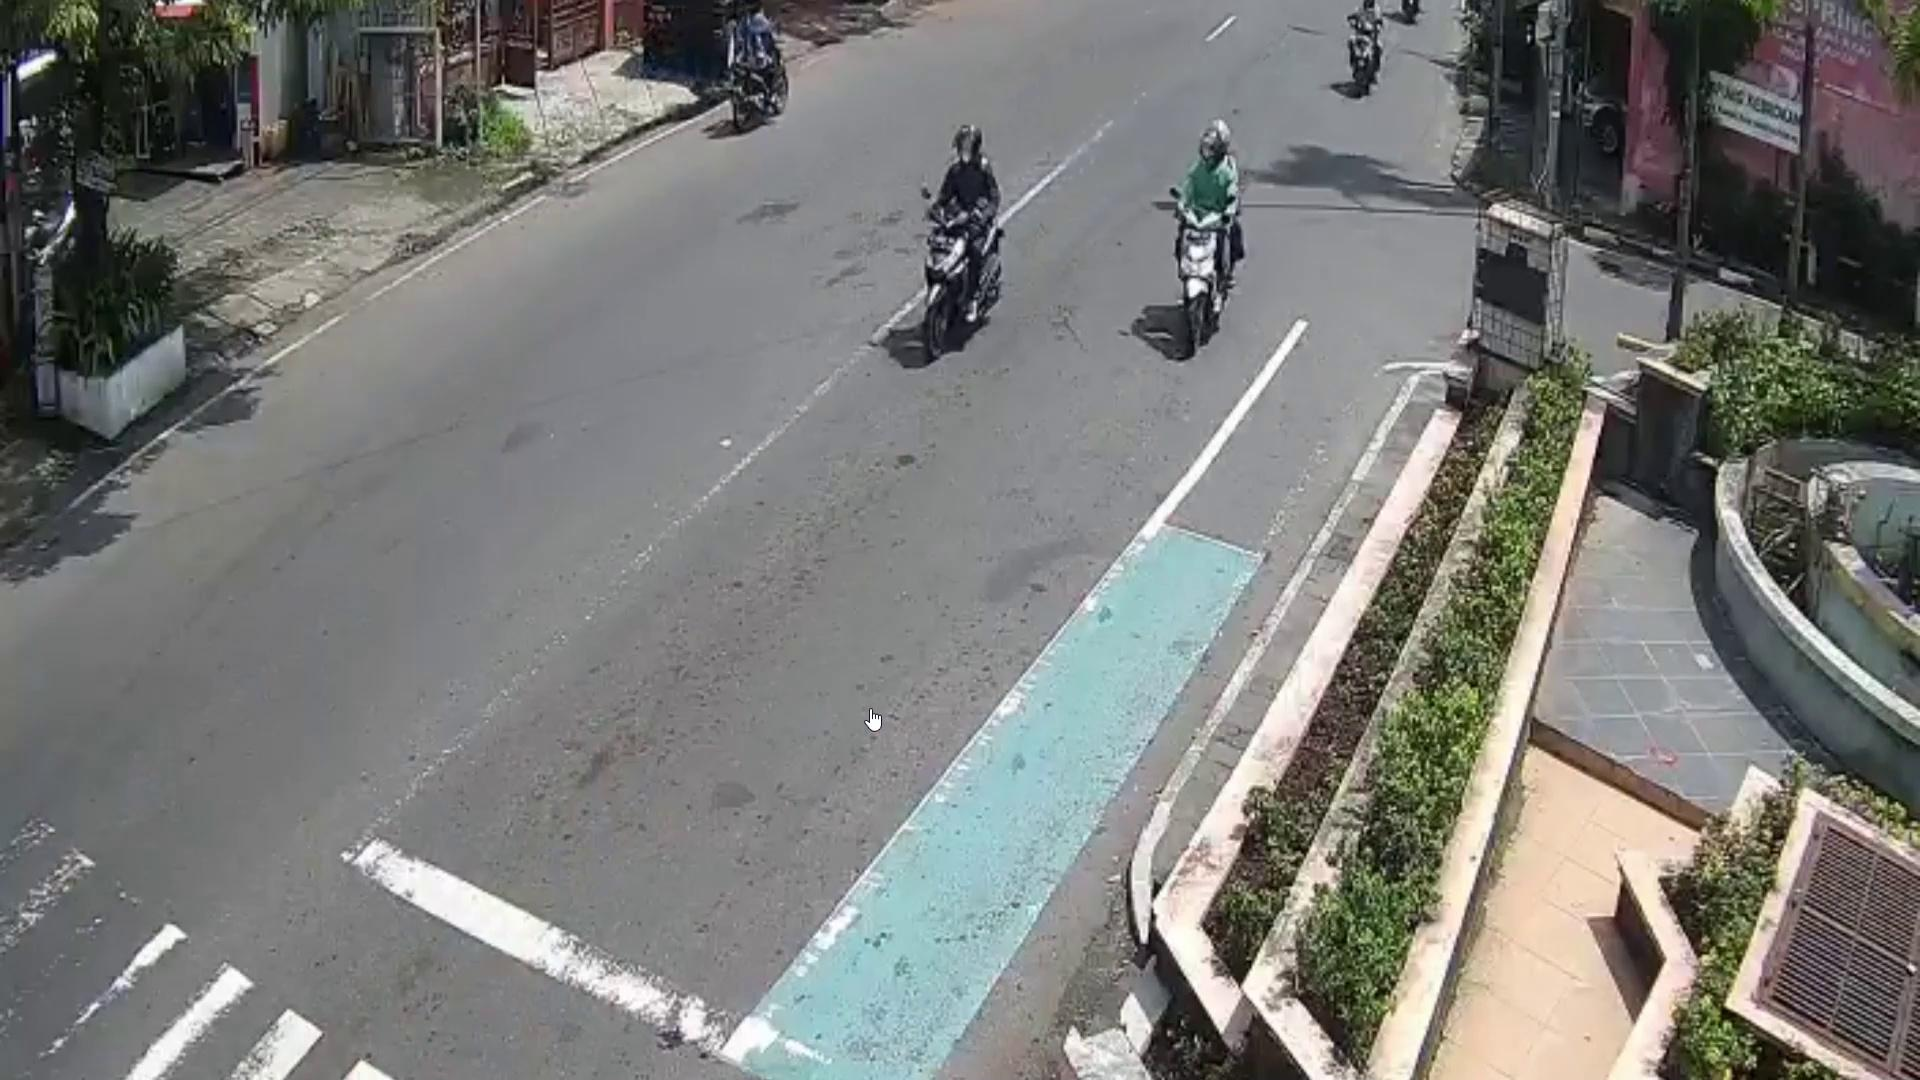motorbike: (926, 204, 1002, 356), (729, 25, 793, 127), (1185, 200, 1222, 355)
